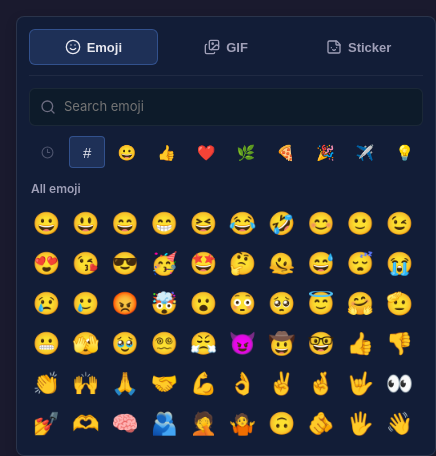
Test case: EmojiPicker › clears an empty search result without losing input focus
Type "doesnotexist987" into the field labelled "Search emoji". click: (238, 107)
box: [64,97,412,117]
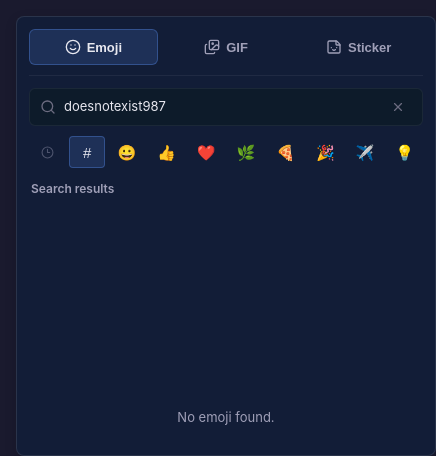
Expected: the text "No emoji found." is shown, [177,408,275,424]
Click the button named "Clear search". click: (398, 107)
box: [384,93,412,121]
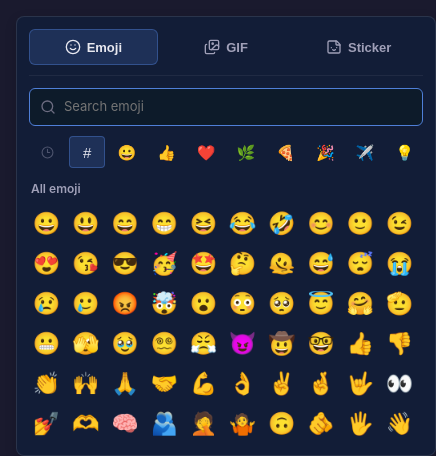
Expected: the field labelled "Search emoji" is empty, [64,97,412,117]
Expected: the button named "grinning face" is shown, [29,206,64,242]
